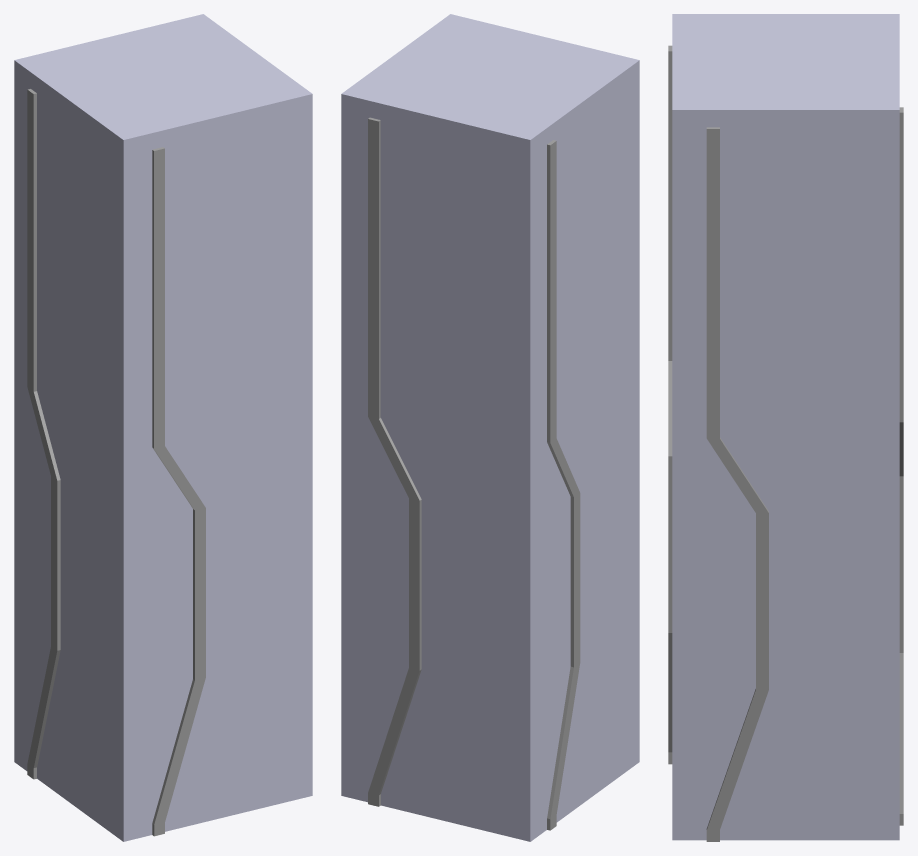
File: Building_1.fbx
3 renders of one model, left to right at view 1: azimuth 30°, elevation 25°; view 2: azimuth 150°, elevation 25°; view 3: azimuth 270°, elevation 25°, orthographic. The views are drawn at different scales.
Visible parts, largest first — view 1: pCube20, pCube22, pCube21; view 2: pCube20, pCube24, pCube21; view 3: pCube20, pCube23, pCube22, pCube24.
Boxes of the visible parts, <box> form: pCube20: <box>14,14,312,841</box>; pCube22: <box>152,147,205,836</box>; pCube21: <box>27,89,60,779</box>; pCube20: <box>341,14,639,841</box>; pCube24: <box>368,117,421,806</box>; pCube21: <box>547,140,580,830</box>; pCube20: <box>672,14,899,840</box>; pCube23: <box>706,127,768,841</box>; pCube22: <box>668,45,672,764</box>; pCube24: <box>899,107,903,825</box>.
Bounding box in the file's own units: 978 × 3346 × 978.
